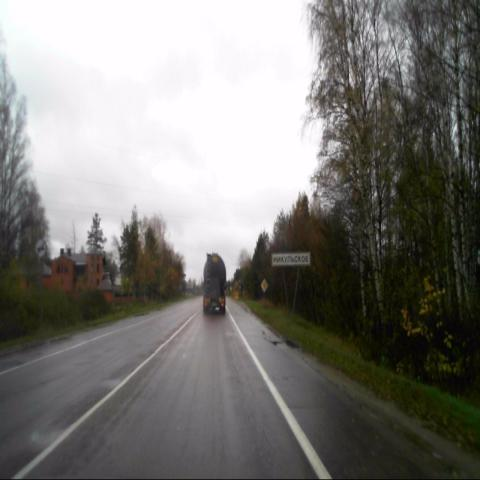3_21: (34, 237, 47, 261)
